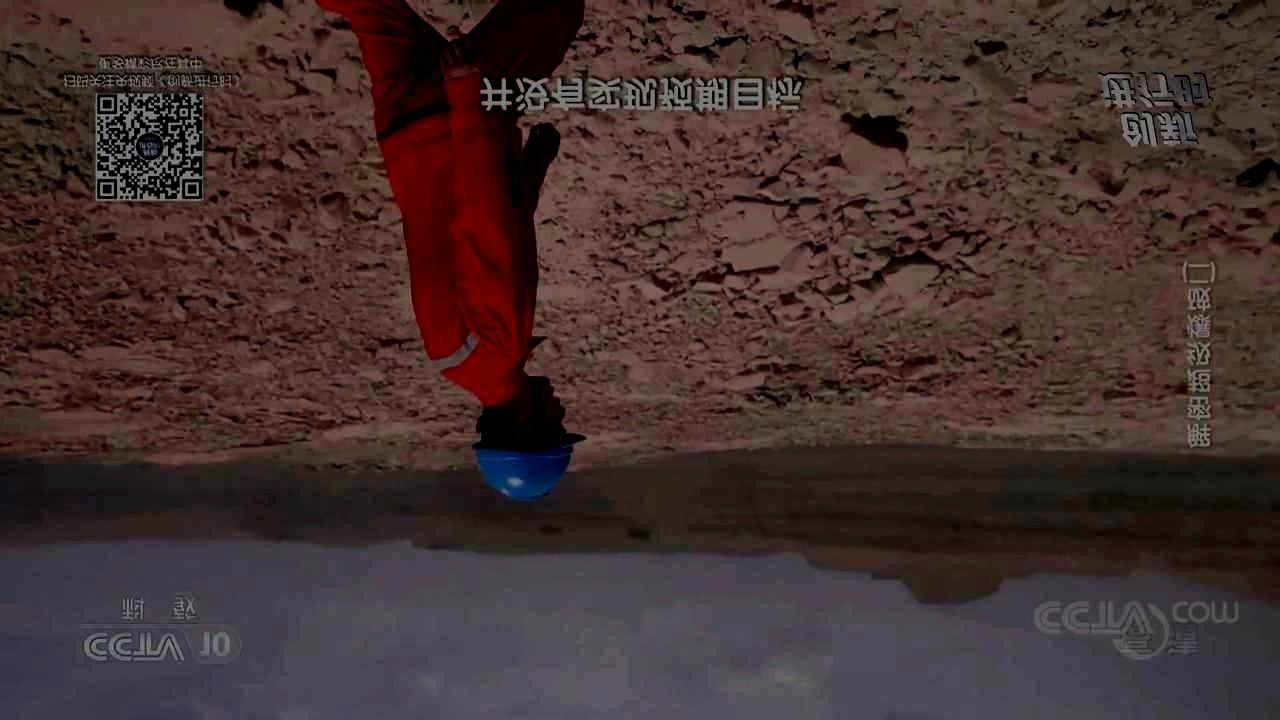helmet: (471, 374, 587, 502)
